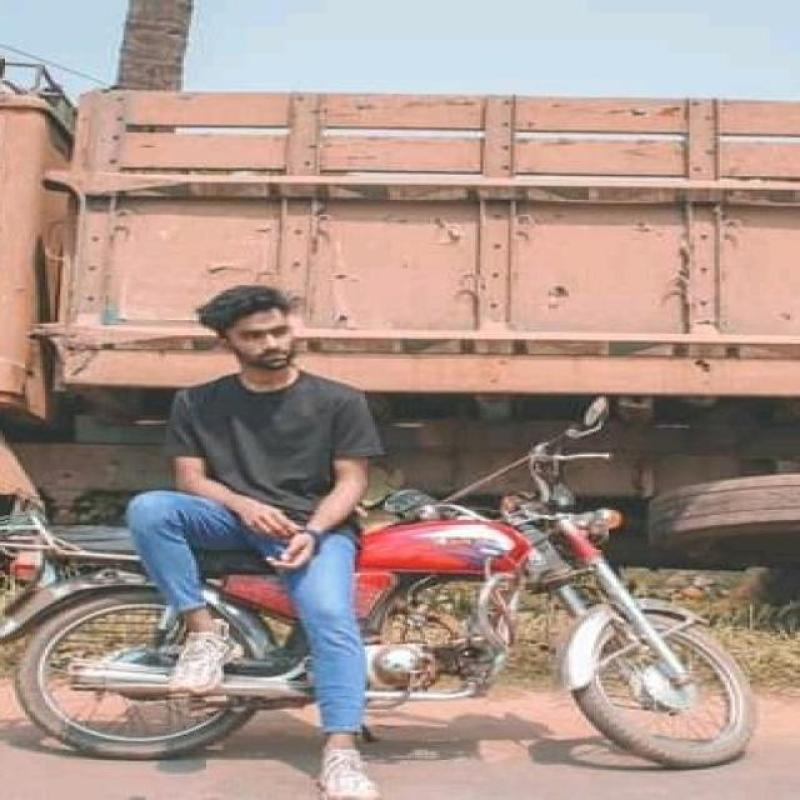nohelmet: (181, 280, 318, 380)
